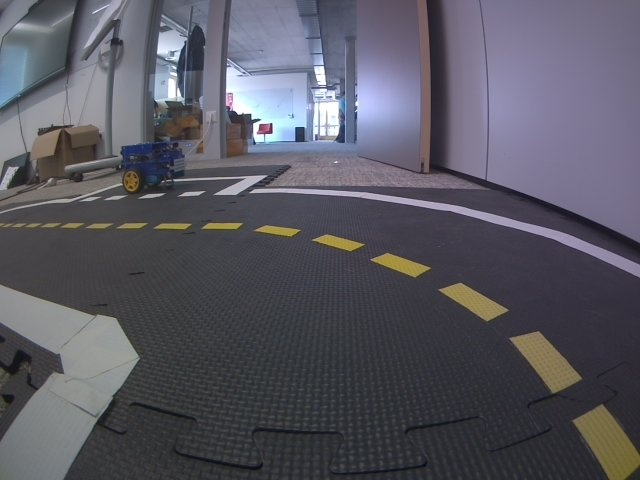Bot: (117, 141, 187, 193)
occupiedSlot: (69, 175, 266, 204)
